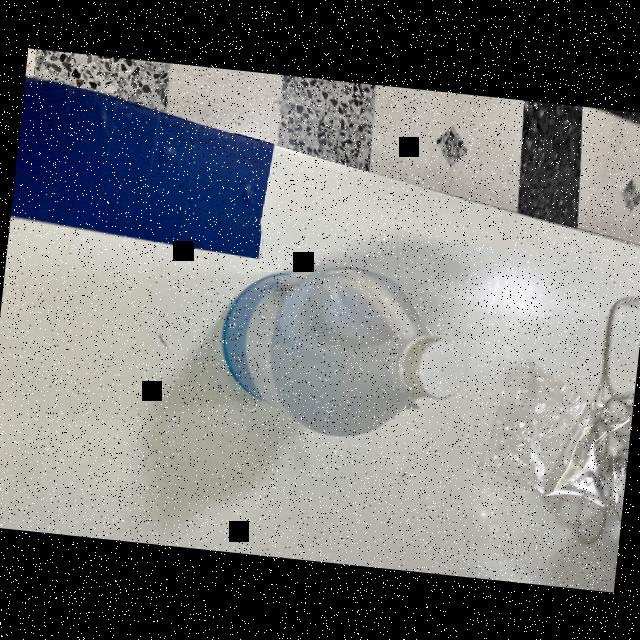chemical_plastic_gallon: (209, 252, 475, 450)
